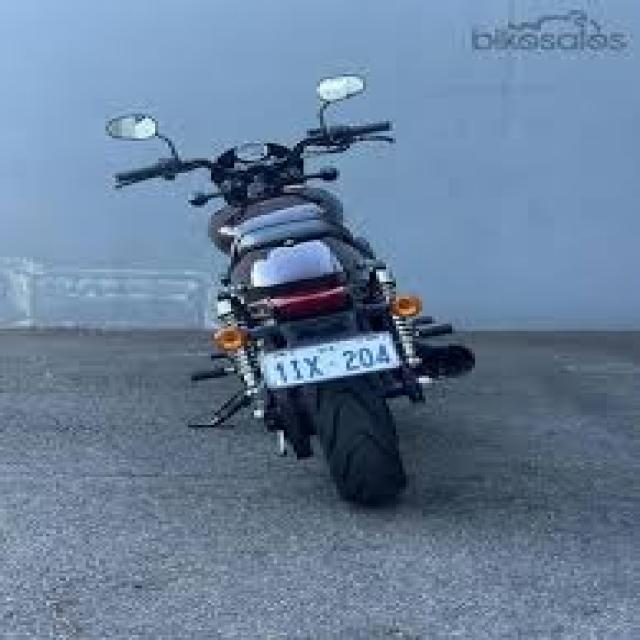number_plate: (205, 333, 458, 405)
